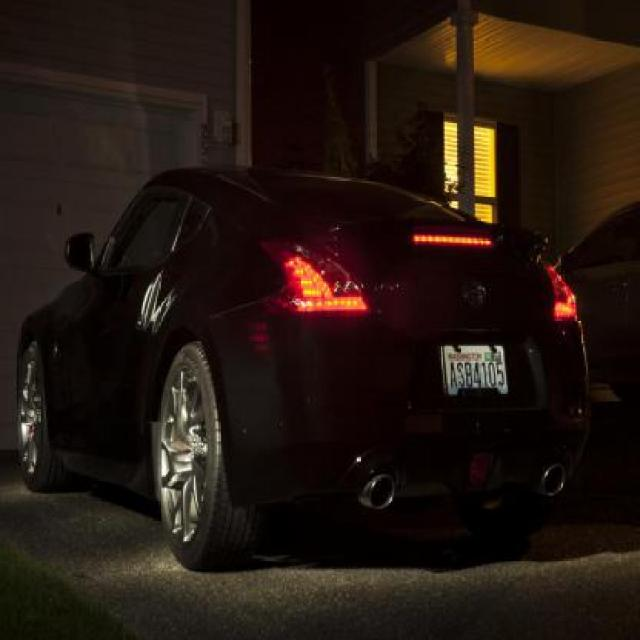License-Plates: (438, 340, 510, 402)
